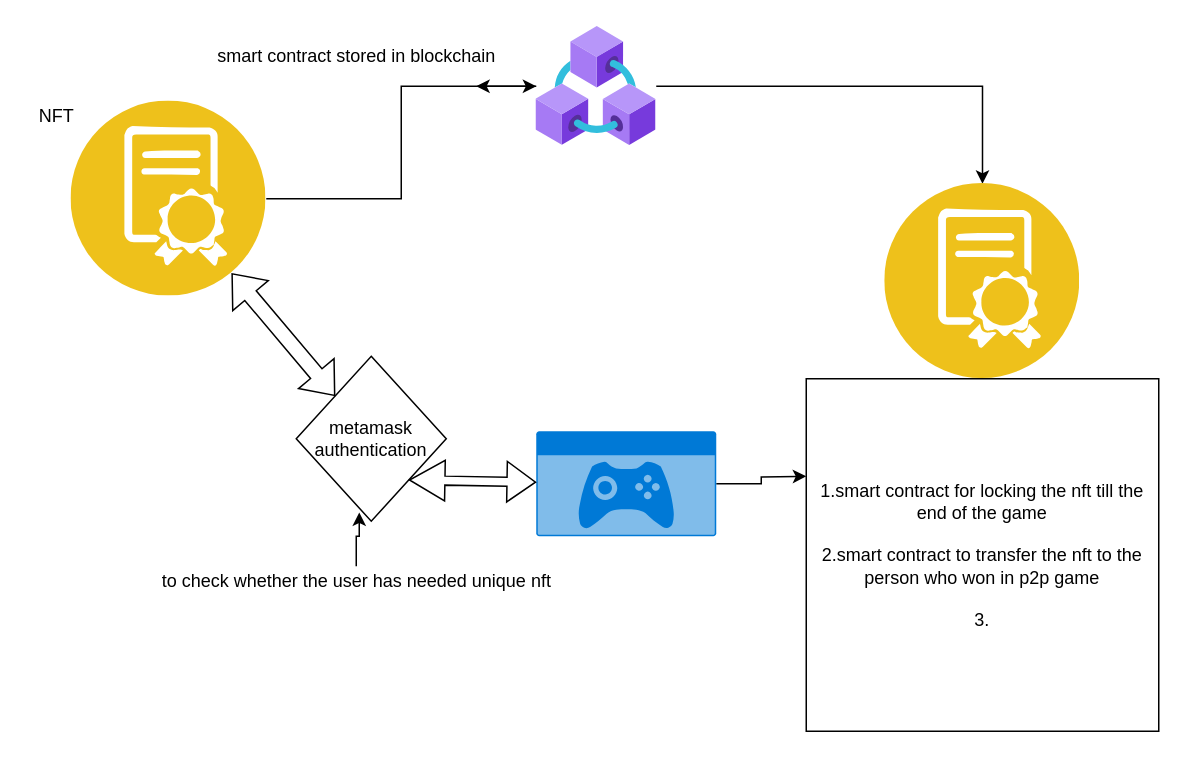
Some shapes in this 1185 by 758 pixel diagram are drawn without their labels. Here are the shapes that lost their labels. From the top down, the box of each, then its label:
(70, 100, 266, 296): Smart contract for nft creation
(536, 430, 716, 536): Game
